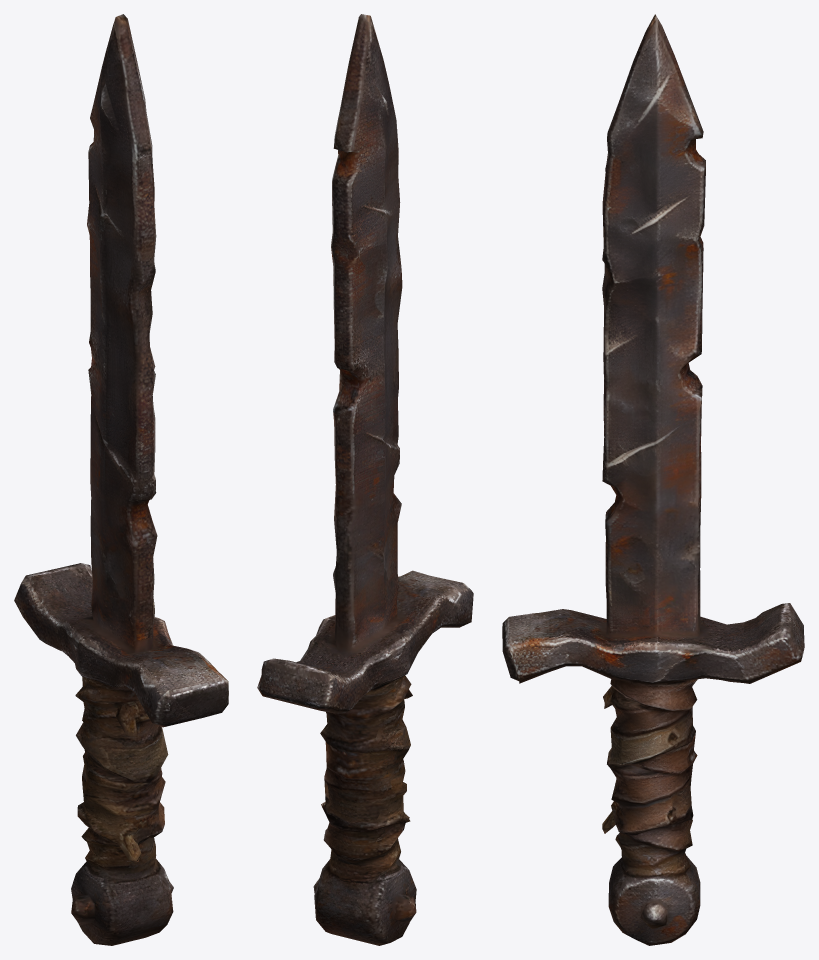
The model's file is espada-curta.glb.
3 renders of one model, left to right at view 1: azimuth 30°, elevation 25°; view 2: azimuth 150°, elevation 25°; view 3: azimuth 270°, elevation 25°, orthographic.
Visible parts, largest first — view 1: tripo_node_957dd72f-2f56-4326-8678-e40a488be4d2; view 2: tripo_node_957dd72f-2f56-4326-8678-e40a488be4d2; view 3: tripo_node_957dd72f-2f56-4326-8678-e40a488be4d2.
Boxes of the visible parts, left/top/right/bottom form: tripo_node_957dd72f-2f56-4326-8678-e40a488be4d2: left=14, top=14, right=228, bottom=945; tripo_node_957dd72f-2f56-4326-8678-e40a488be4d2: left=257, top=14, right=473, bottom=945; tripo_node_957dd72f-2f56-4326-8678-e40a488be4d2: left=502, top=14, right=804, bottom=945.
Size of the model in its own units: 0.0398 by 0.35 by 0.1046.
1 material, 1 textured.
